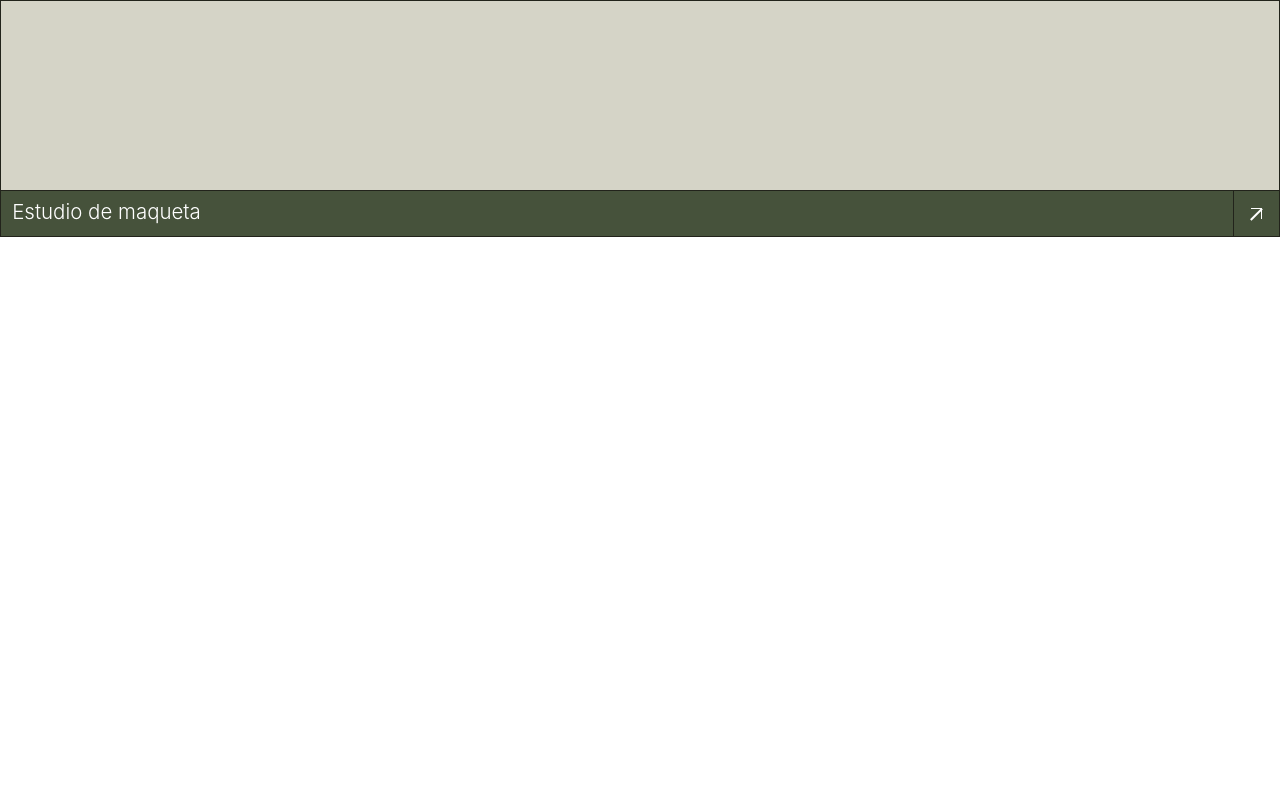
Test case: muestra proyectos sin portada ni enlace
Click the button "Estudio de maqueta". click: coordinates (640, 118)
box: x1=0 y1=0 x2=1279 y2=237
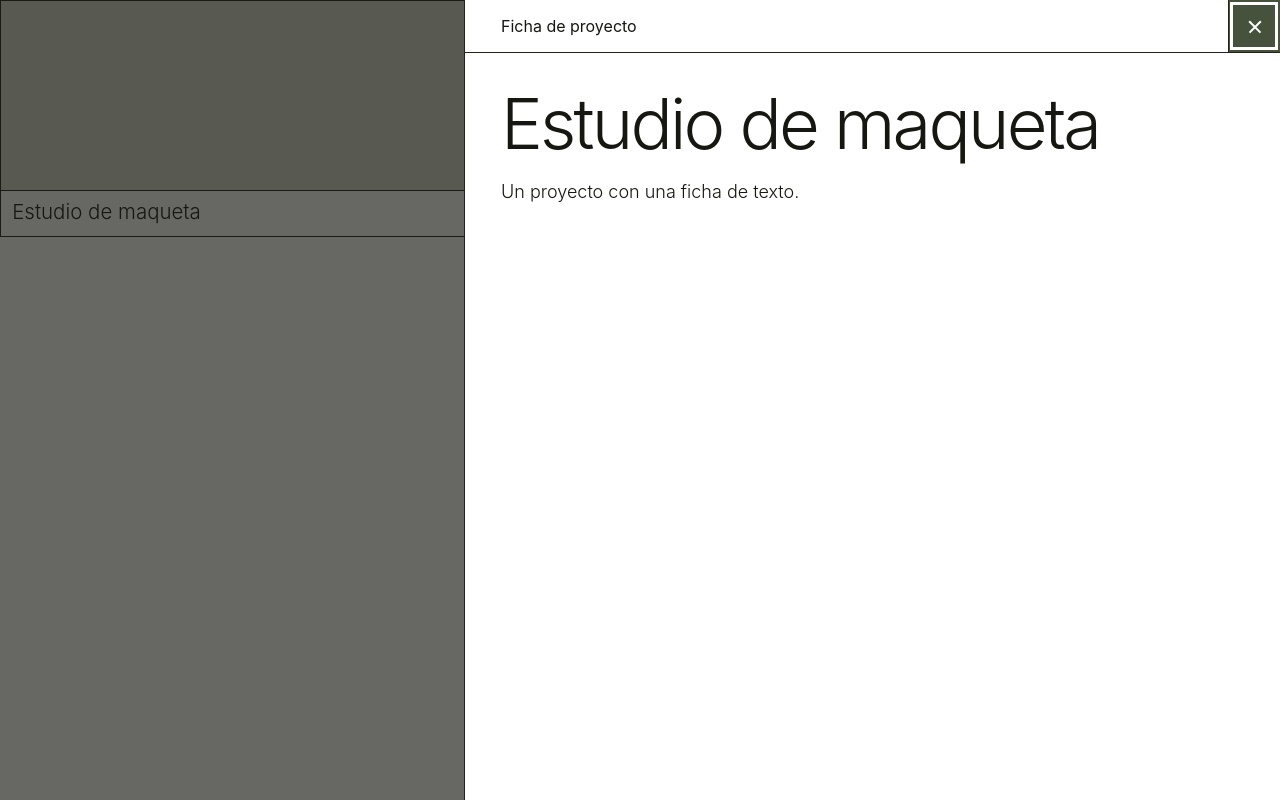
Result: the text "Un proyecto con una ficha de texto." is shown at x1=501 y1=181 x2=799 y2=202
